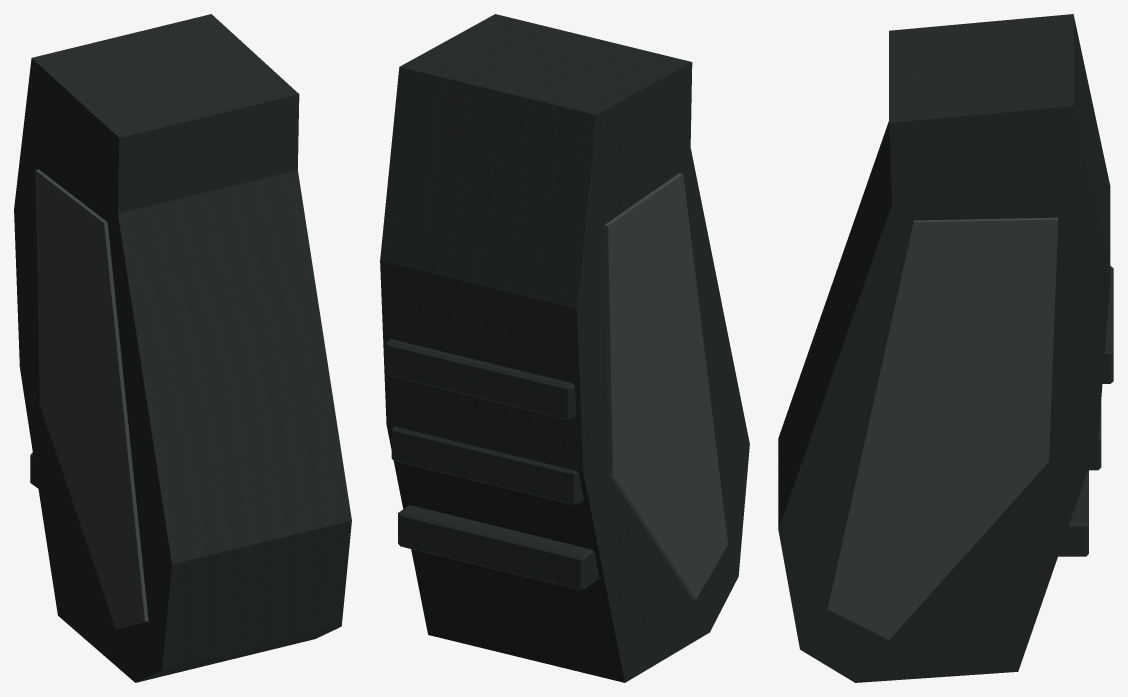
Rendered from bren_grip.glb.
The picture shows the model from 3 angles, left to right: view 1: azimuth 30°, elevation 25°; view 2: azimuth 150°, elevation 25°; view 3: azimuth 270°, elevation 25°; orthographic projection. The views are drawn at different scales.
Parts seen in each view (by area): view 1: bren_grip_item_profile, bren_grip_item_profile.001, bren_grip_molded_panel; view 2: bren_grip_item_profile, bren_grip_item_profile.001, bren_grip_molded_panel; view 3: bren_grip_item_profile, bren_grip_item_profile.001, bren_grip_molded_panel.
Part boxes in pixels (x1,y1,x2,y2): bren_grip_item_profile: (16,33,345,676); bren_grip_item_profile.001: (14,14,351,682); bren_grip_molded_panel: (35,169,148,629); bren_grip_item_profile: (385,18,747,674); bren_grip_item_profile.001: (380,14,749,682); bren_grip_molded_panel: (604,173,727,599); bren_grip_item_profile: (778,18,1113,674); bren_grip_item_profile.001: (778,14,1110,682); bren_grip_molded_panel: (827,217,1058,639).
Bounding box in the file's own units: 0.0738 × 0.207 × 0.109.
2 materials, 1 textured.
